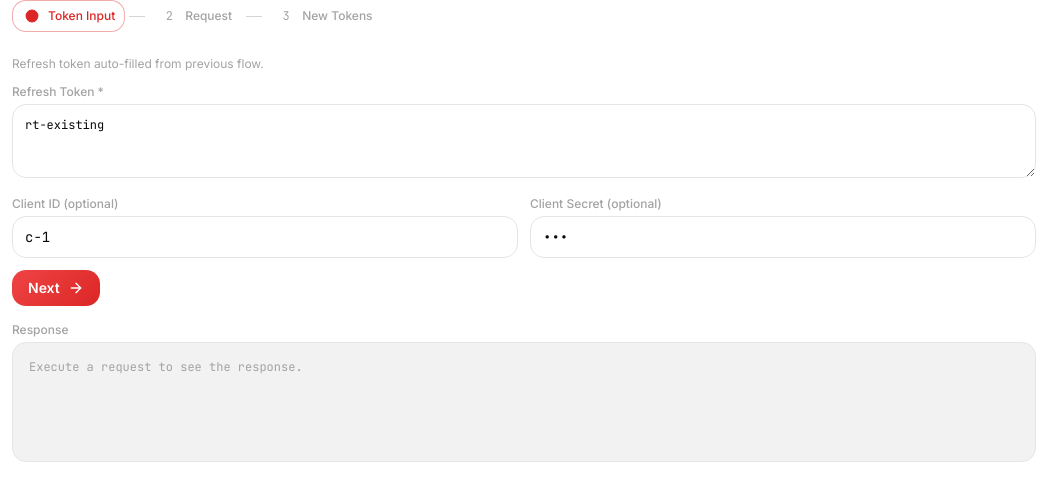
Test: RefreshTokenFlow › shows the auto-fill hint and moves to the request step
Check: the text "Refresh token auto-filled from previous flow." is shown, box [12, 56, 264, 71]
Click the button "Next" at (56, 288), box [12, 270, 100, 306]
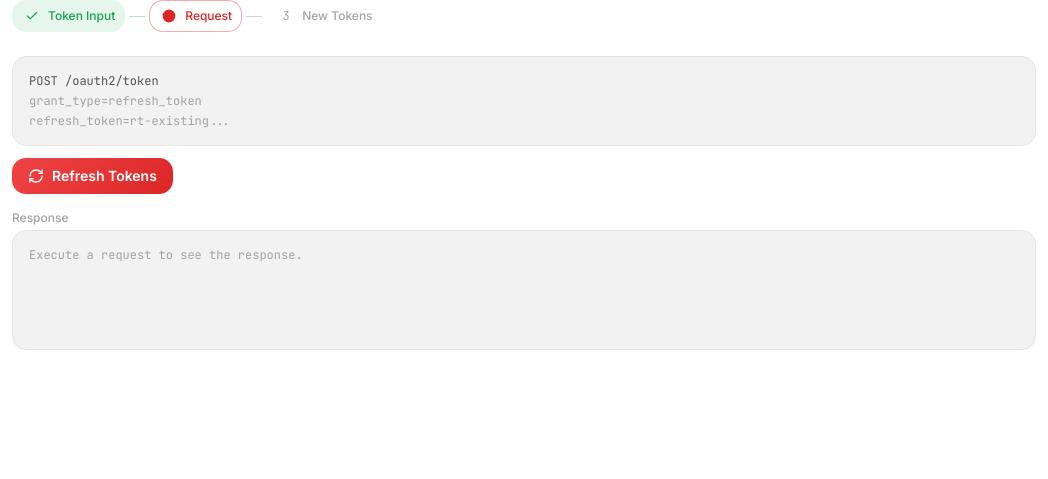
Check: the text "grant_type=refresh_token" is shown, box [29, 93, 202, 109]
